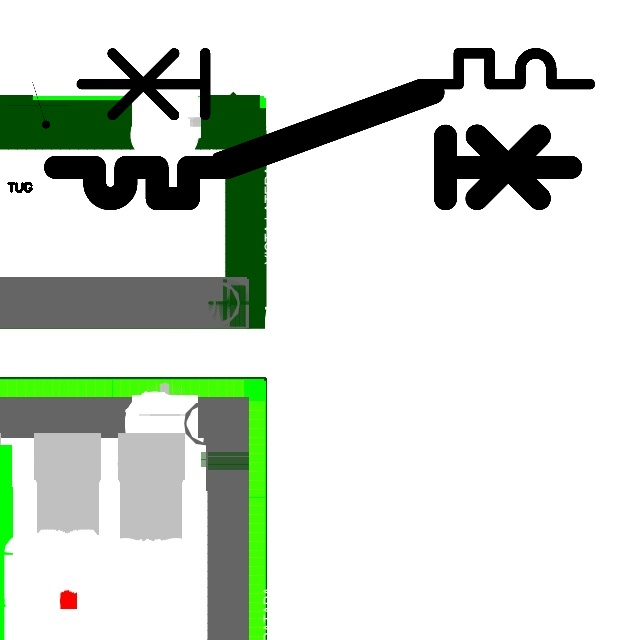interruptor_termomagnetico: (42, 79, 584, 212), (68, 40, 602, 170)
